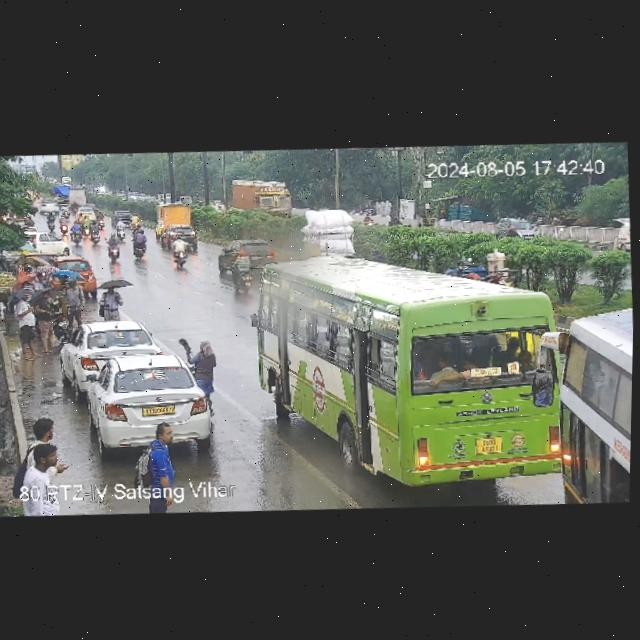bus: (248, 240, 571, 453), (528, 303, 634, 508), (443, 257, 534, 296)
car: (83, 350, 212, 451), (63, 316, 158, 384), (215, 236, 276, 272), (50, 255, 98, 291), (492, 215, 545, 242), (24, 230, 70, 259), (159, 224, 199, 249), (39, 197, 61, 215), (75, 207, 97, 221)
motorcycle: (228, 249, 255, 295), (166, 235, 193, 268), (129, 230, 151, 260), (105, 231, 121, 263), (88, 219, 104, 246), (70, 220, 84, 248), (115, 219, 127, 240), (363, 212, 377, 230), (131, 211, 142, 232), (58, 215, 69, 235), (46, 212, 57, 231)
person: (19, 412, 70, 491), (134, 419, 184, 497), (181, 337, 217, 403), (33, 288, 62, 353), (16, 294, 39, 364), (60, 275, 86, 321), (97, 286, 123, 320)
truck: (226, 175, 309, 224), (153, 201, 192, 234), (52, 183, 87, 209), (110, 209, 133, 226)
